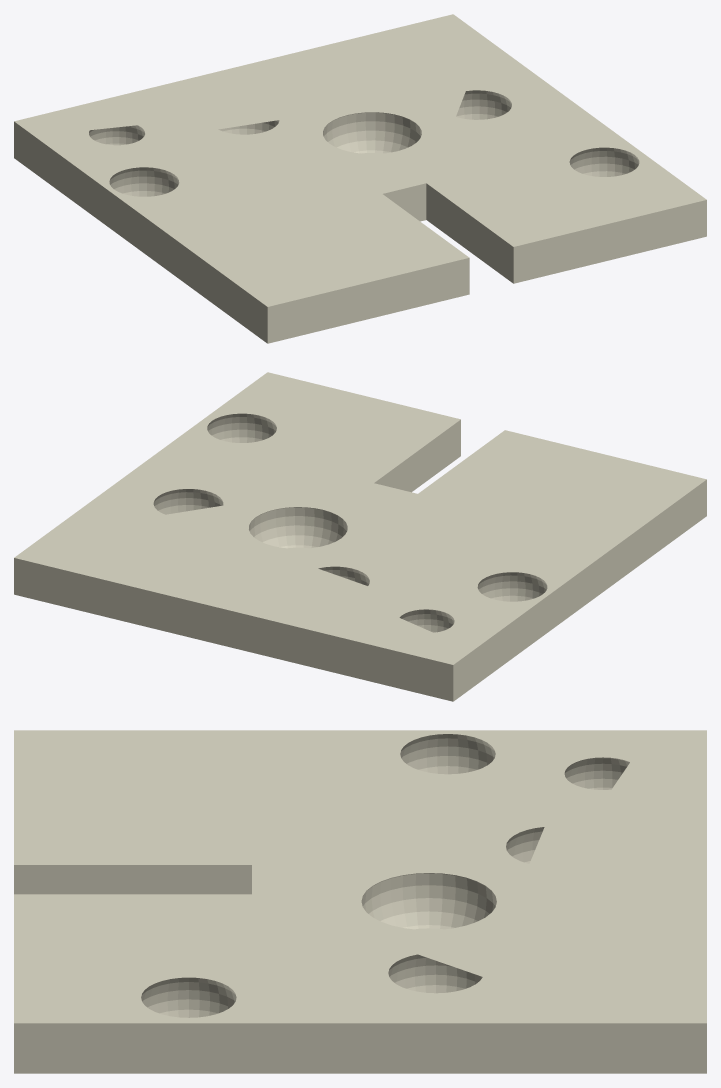
The model's file is level_3.fbx.
3 renders of one model, top to bottom at view 1: azimuth 30°, elevation 25°; view 2: azimuth 150°, elevation 25°; view 3: azimuth 270°, elevation 25°, orthographic. The views are drawn at different scales.
Parts seen in each view (by area): view 1: Cube; view 2: Cube; view 3: Cube.
Boxes of the visible parts, <box> form: Cube: <box>14,14,706,343</box>; Cube: <box>14,372,706,701</box>; Cube: <box>14,730,706,1073</box>.
Size of the model in its own units: 1000 by 80 by 1000.
